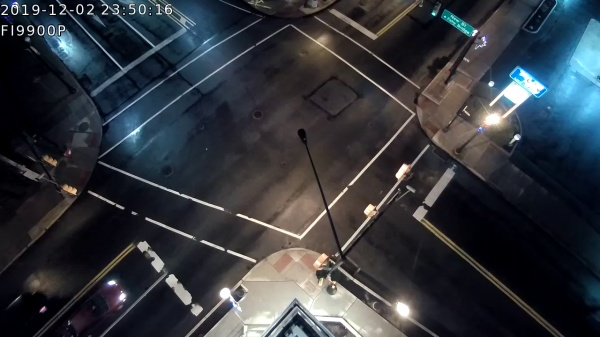car: (62, 276, 126, 332)
